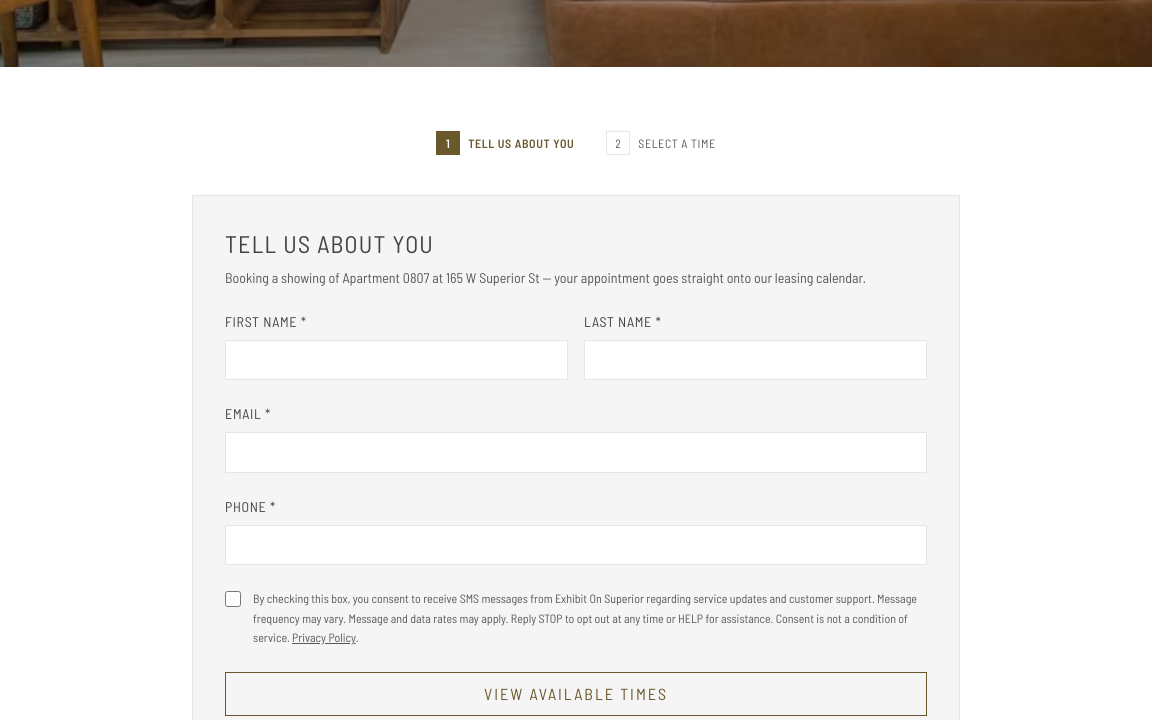
ScheduleShowing later booking steps label-in-name (WCAG 2.5.3) › fallback — lead captured + hosted scheduling link
(page scrolled)
Step 1. Type "Ada" into the field labelled "First Name *" → (396, 360), box x1=225 y1=340 x2=568 y2=380
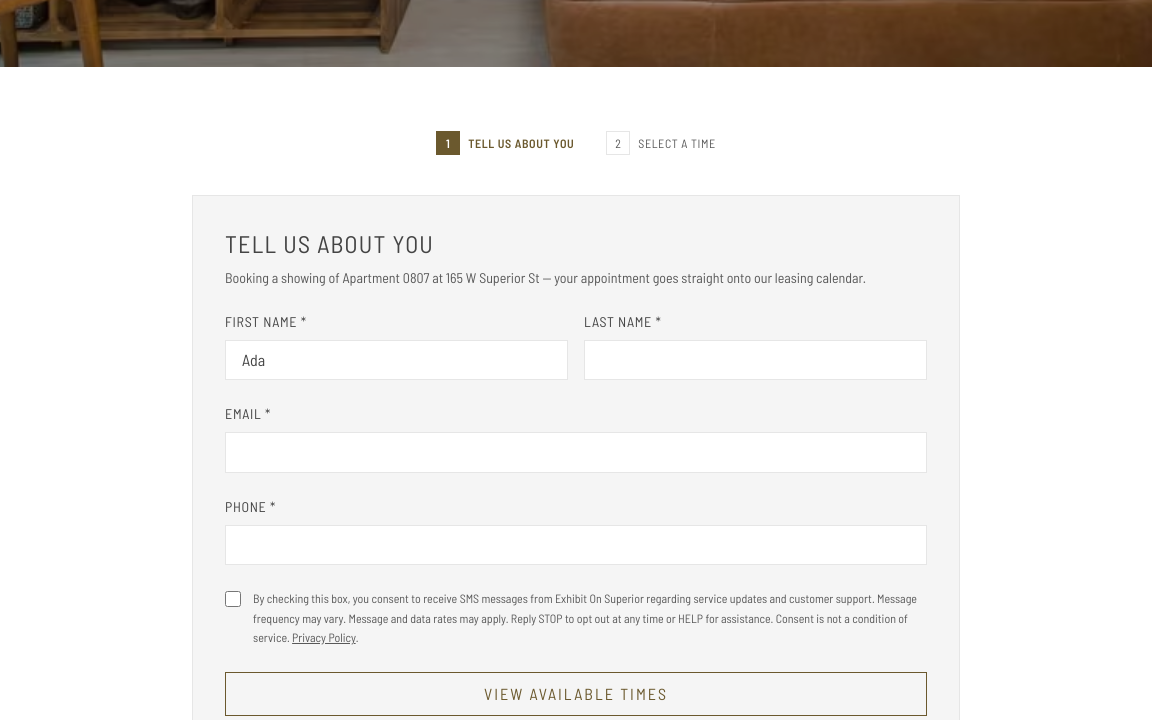
Step 2. Type "Lovelace" into the field labelled "Last Name *" → (756, 360), box x1=584 y1=340 x2=927 y2=380
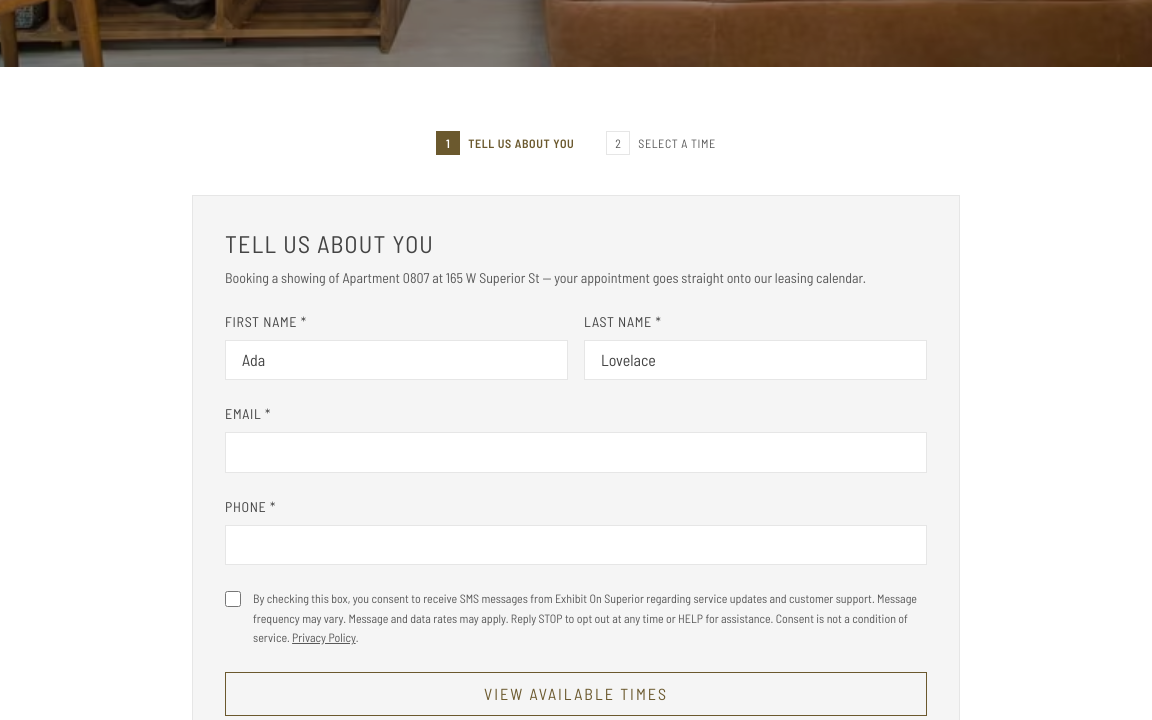
Step 3. Type "ada@example.com" into the field labelled "Email *" → (576, 453), box x1=225 y1=432 x2=927 y2=473
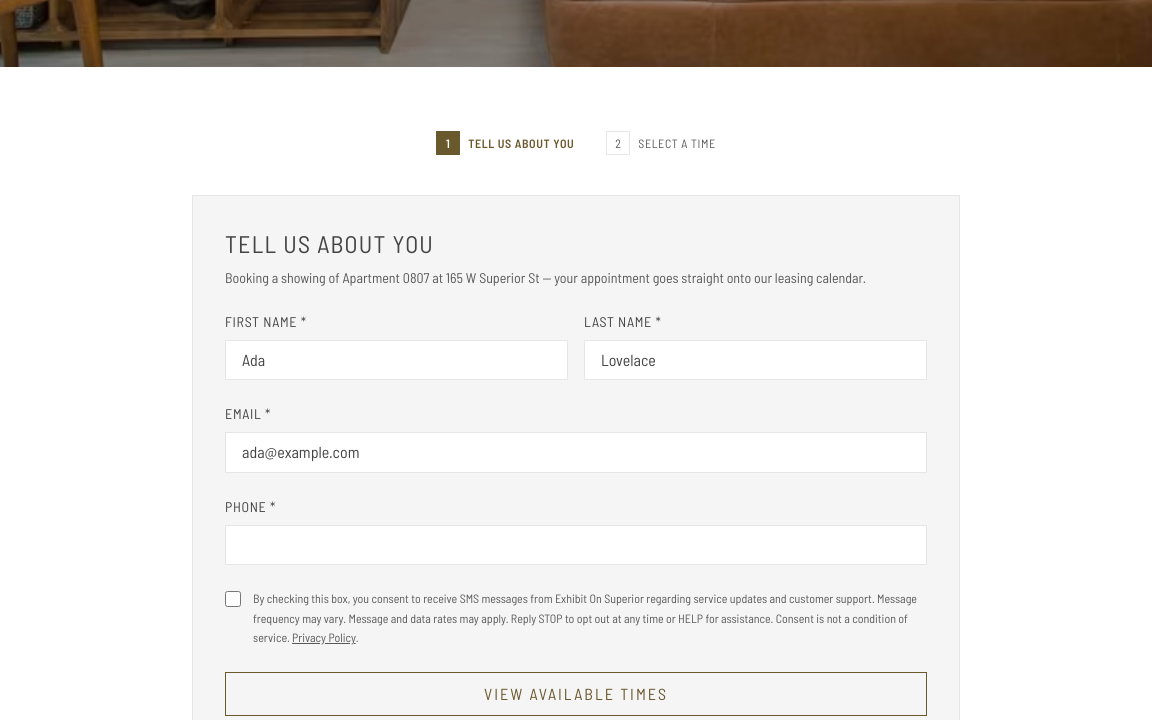
Step 4. Type "3125550123" into the field labelled "Phone *" → (576, 545), box x1=225 y1=525 x2=927 y2=565
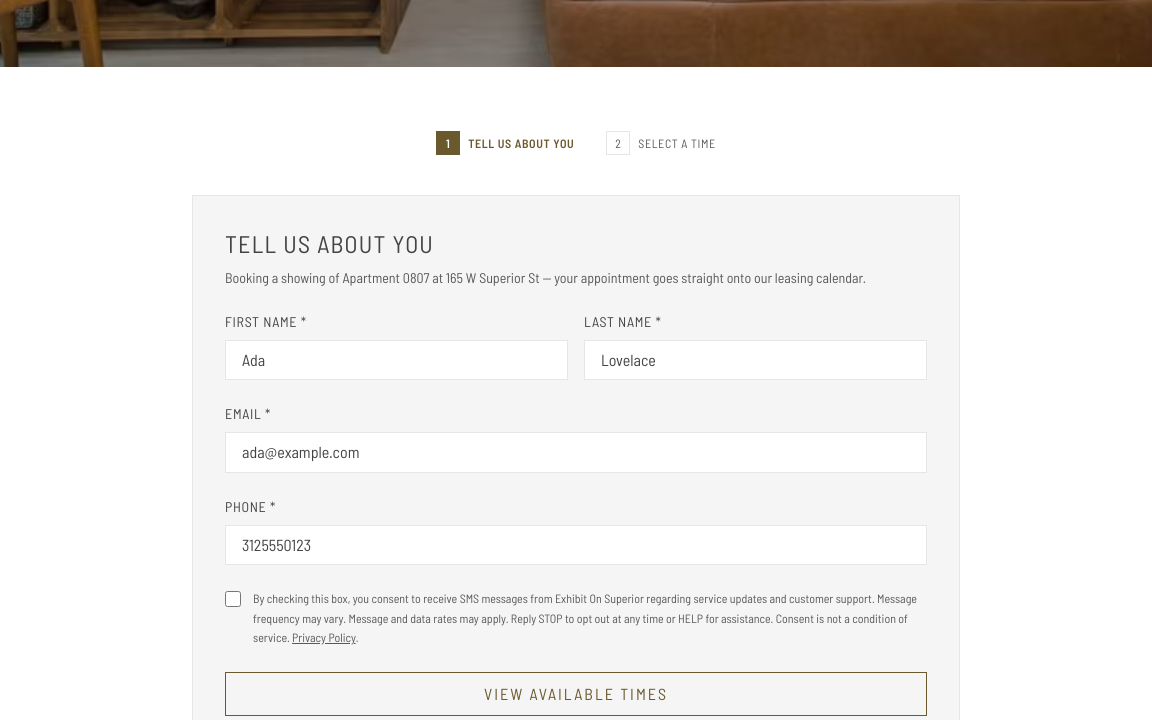
Step 5. Click the button "View Available Times" → (576, 694), box x1=225 y1=672 x2=927 y2=716
(page scrolled)
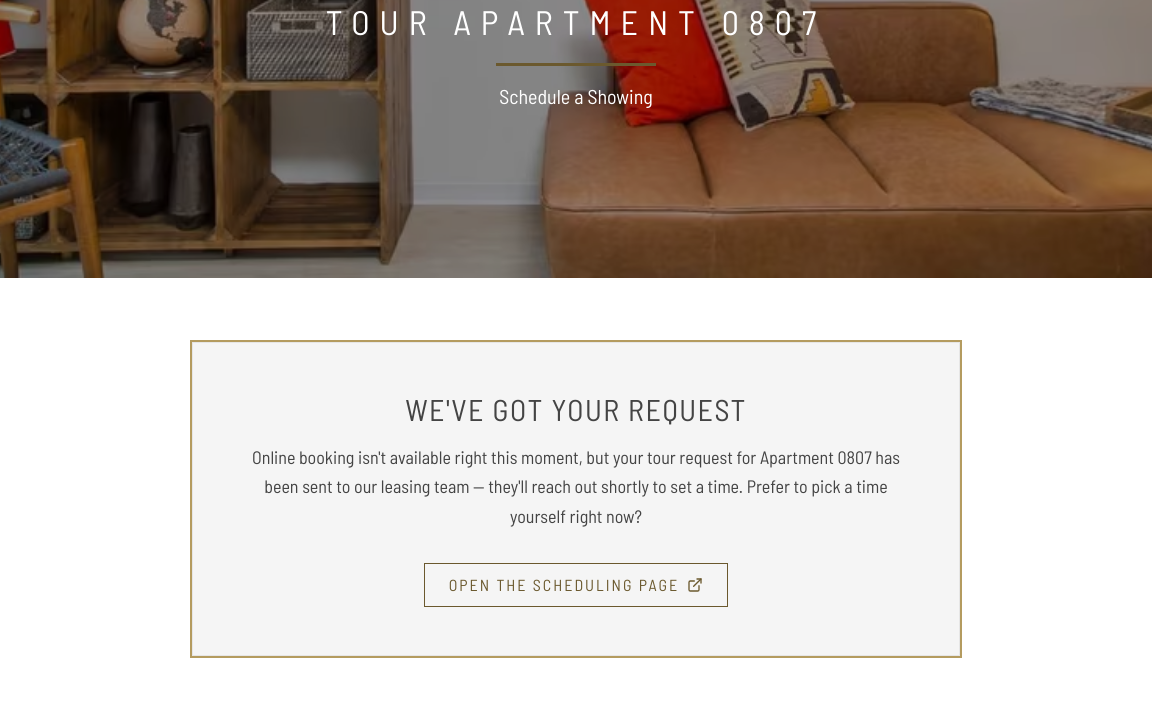
Check: the heading "We've Got Your Request" is shown, box x1=405 y1=391 x2=747 y2=427
Check: the link "Open the scheduling page" is shown, box x1=424 y1=563 x2=728 y2=607
